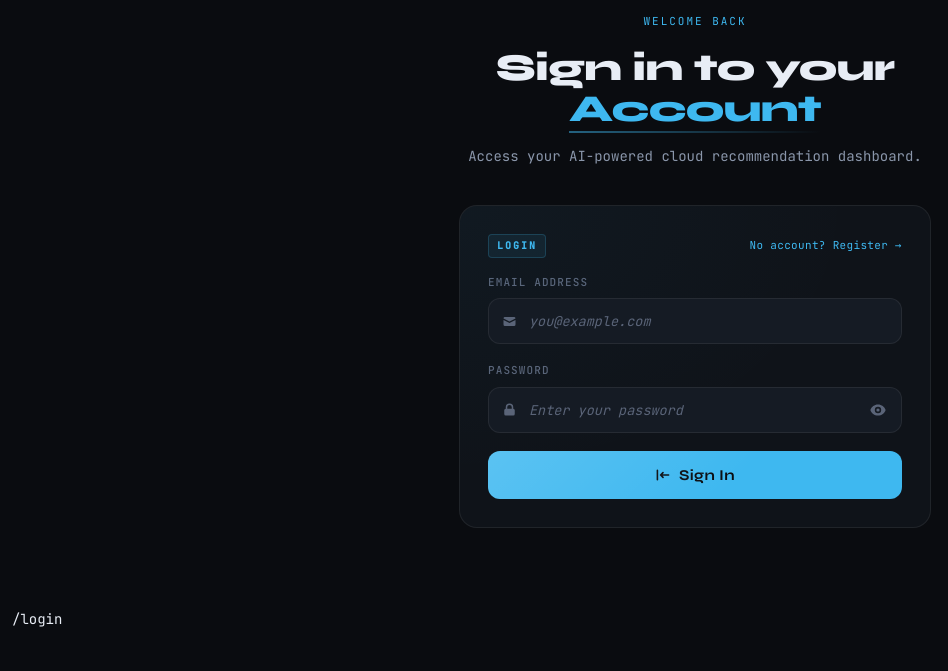
it: explains when the backend is unreachable
Type "alice@example.com" into the field labelled "Email Address". click: (695, 321)
box: [488,298,902,344]
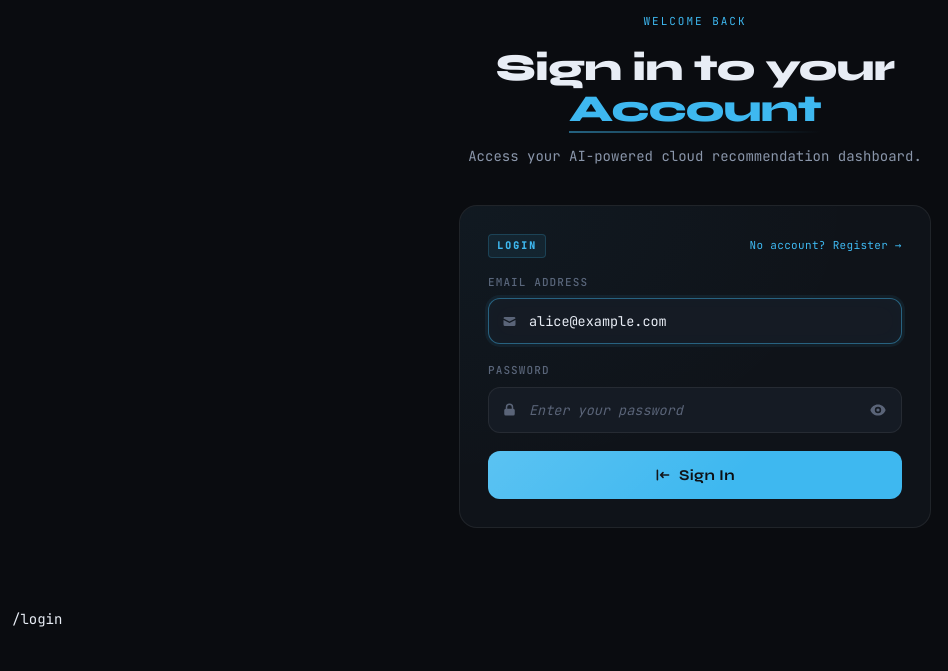
Type "secret123" into the password field labelled "Password". click: (695, 410)
box: [488,387,902,433]
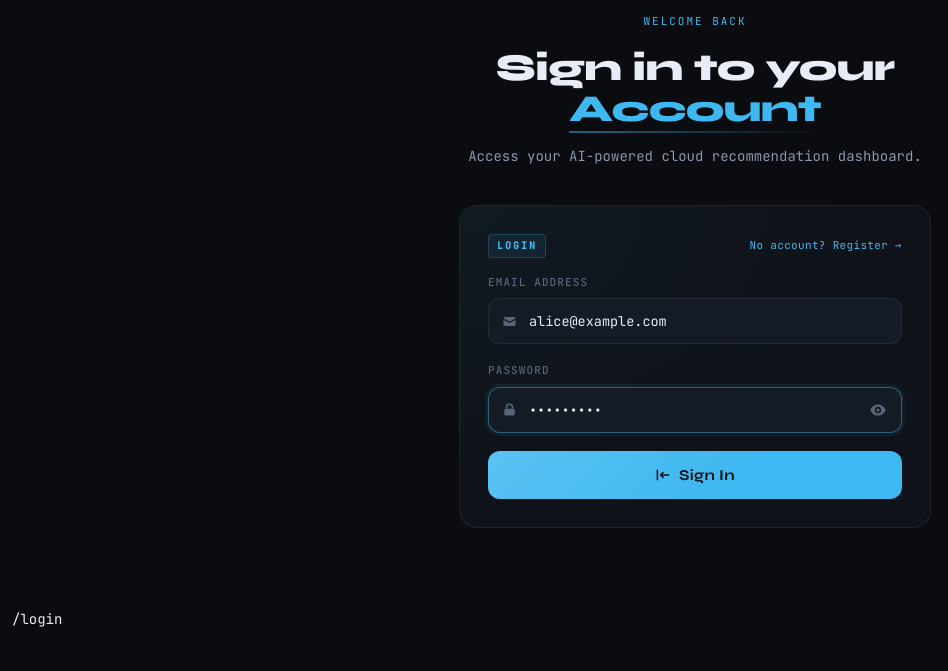
Click the button "Sign In". click: (695, 475)
box: [488,451,902,499]
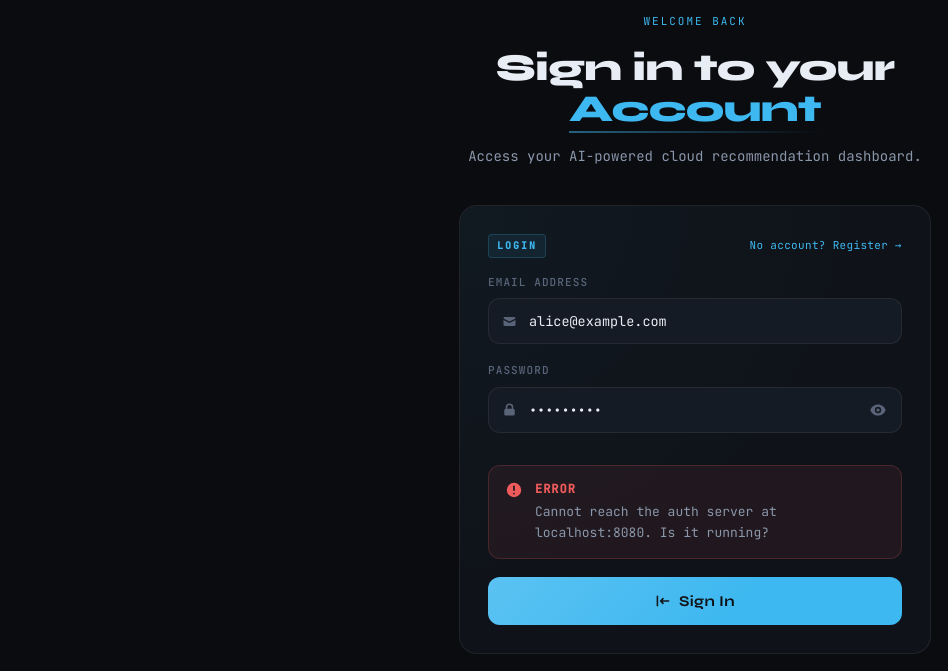
Now the text "Cannot reach the auth server" is shown, box [535,503,777,541]
